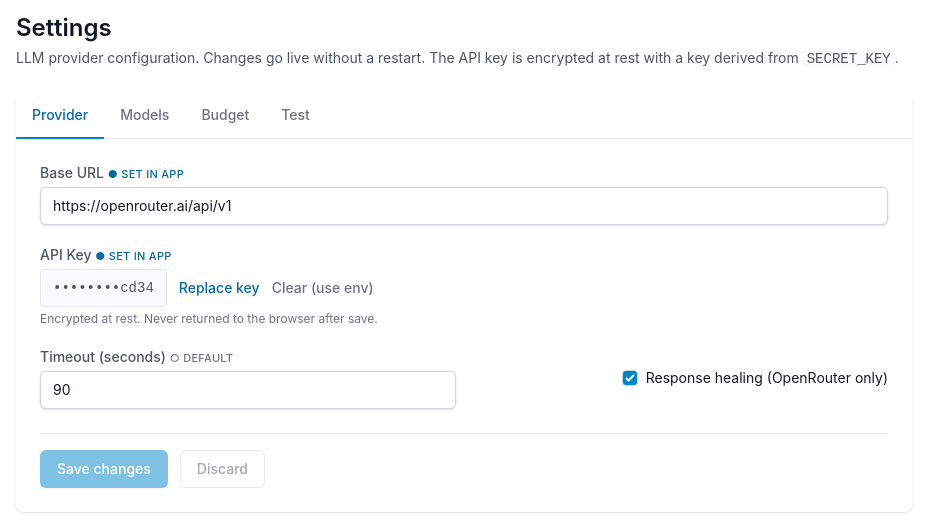
Test: SettingsPage › switches tabs and renders each section
Check: the heading "Settings" is shown, box x1=16 y1=13 x2=112 y2=42
Budget tab.
Click the button "Budget". click: (225, 116)
box: x1=185 y1=93 x2=265 y2=139
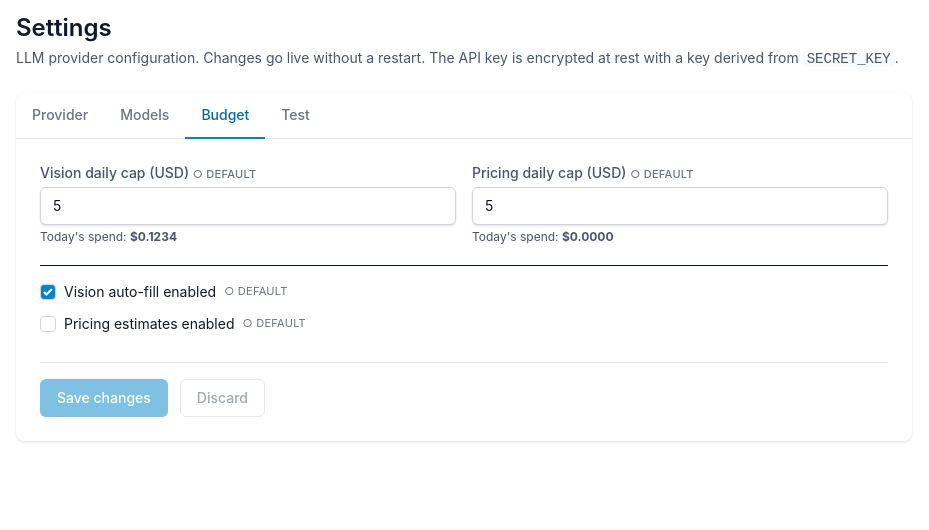
Check: the text "Vision daily cap (USD) ○ default" is shown, box x1=40 y1=164 x2=256 y2=181
Models tab.
Click the button "Models". click: (145, 116)
box: x1=104 y1=93 x2=185 y2=139
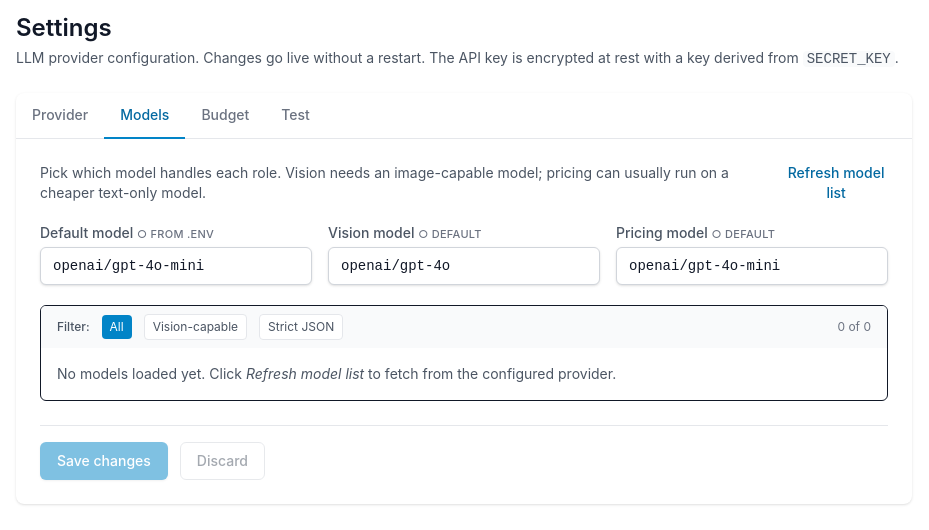
Check: the button "Refresh model list" is shown, box x1=784 y1=163 x2=888 y2=203
Test tab.
Click the button "Test". click: (296, 116)
box: x1=265 y1=93 x2=326 y2=139
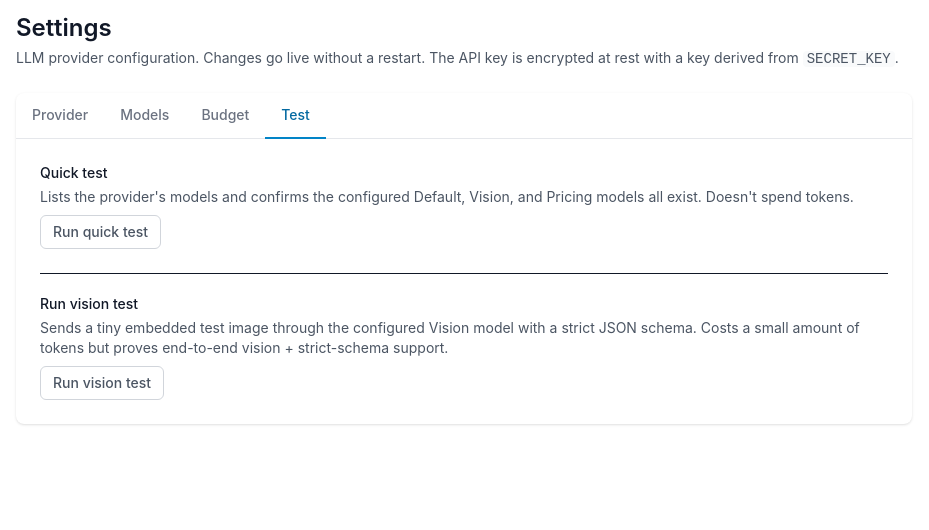
Check: the button "Run quick test" is shown, box x1=40 y1=215 x2=161 y2=249
